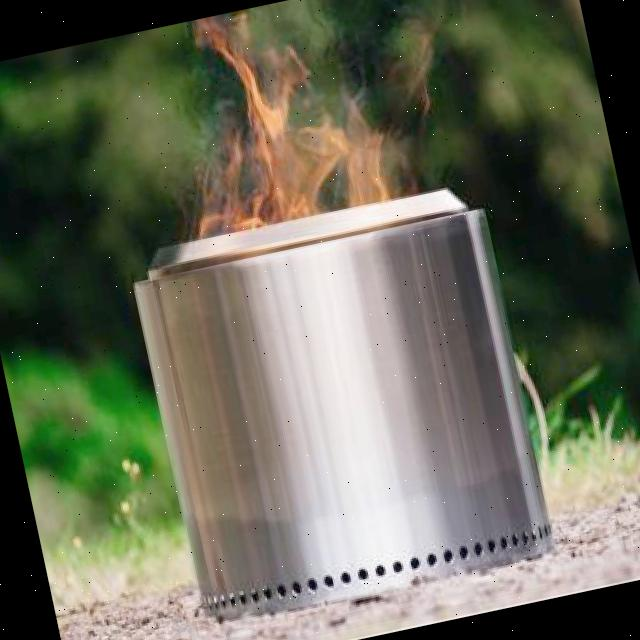fire: (168, 0, 423, 244)
